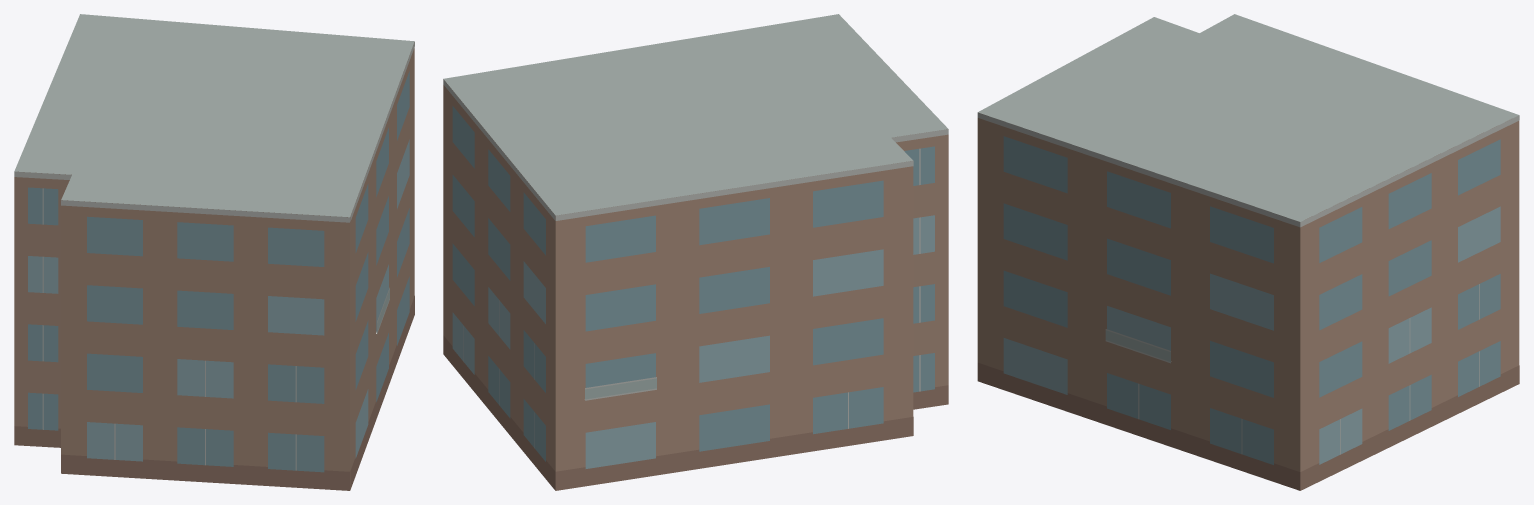
Rendered from survey-upis-32851374.glb.
3 views of the same model, side by side, from view 1: azimuth 30°, elevation 25°; view 2: azimuth 150°, elevation 25°; view 3: azimuth 270°, elevation 25° (orthographic). The views are drawn at different scales.
Parts seen in each view (by area): view 1: survey-upis-32851374.tmp; view 2: survey-upis-32851374.tmp; view 3: survey-upis-32851374.tmp.
Part boxes in pixels (x1=…): survey-upis-32851374.tmp: x1=14, y1=14, x2=414, y2=490; survey-upis-32851374.tmp: x1=443, y1=14, x2=948, y2=490; survey-upis-32851374.tmp: x1=977, y1=14, x2=1519, y2=490.
Bounding box in the file's own units: 20.25 × 12.2 × 22.29.
